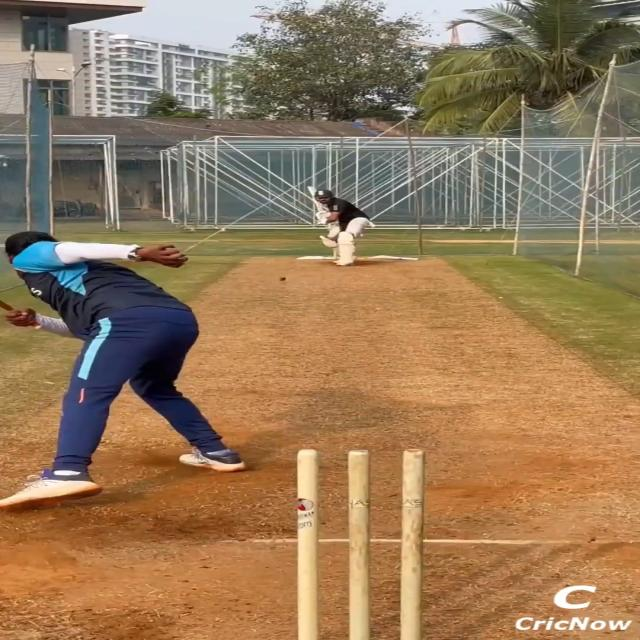ball: (279, 276, 286, 281)
stump: (294, 447, 426, 640)
